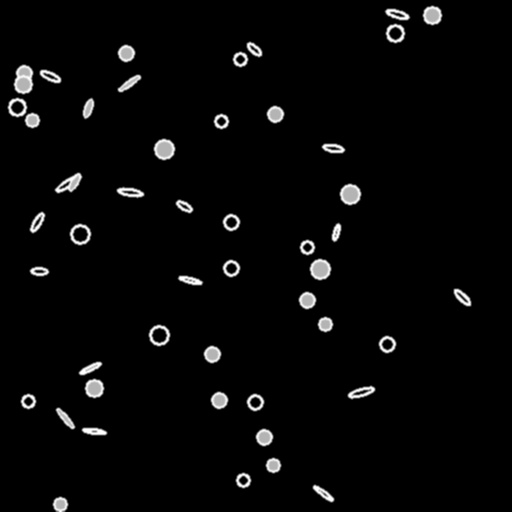pseudomonas: (54, 173, 82, 193), (55, 407, 75, 429), (118, 74, 140, 92), (312, 484, 334, 502), (348, 385, 374, 399), (452, 288, 472, 306), (29, 211, 45, 233), (79, 361, 101, 375), (39, 69, 61, 83), (385, 8, 409, 20), (246, 41, 262, 57), (175, 199, 193, 213), (67, 173, 81, 191), (82, 98, 94, 118), (118, 187, 142, 197), (178, 275, 202, 285), (323, 143, 343, 153), (82, 427, 106, 435), (331, 223, 341, 241), (30, 268, 48, 274)
synechocystis: (311, 260, 329, 278), (341, 185, 359, 203), (155, 140, 173, 158), (150, 326, 168, 344), (71, 225, 89, 243), (387, 25, 403, 41), (424, 7, 440, 23), (9, 99, 25, 115), (86, 380, 102, 396), (15, 76, 31, 92), (224, 261, 238, 275), (119, 46, 133, 60), (212, 393, 226, 407), (205, 347, 219, 361), (380, 337, 394, 351), (300, 293, 314, 307), (224, 215, 238, 229), (268, 107, 282, 121), (17, 66, 31, 80), (257, 430, 271, 444), (248, 395, 262, 409), (54, 498, 66, 510), (234, 53, 246, 65), (237, 474, 249, 486), (26, 114, 38, 126), (301, 241, 313, 253), (22, 395, 34, 407), (215, 115, 227, 127), (267, 459, 279, 471), (319, 318, 331, 330)
